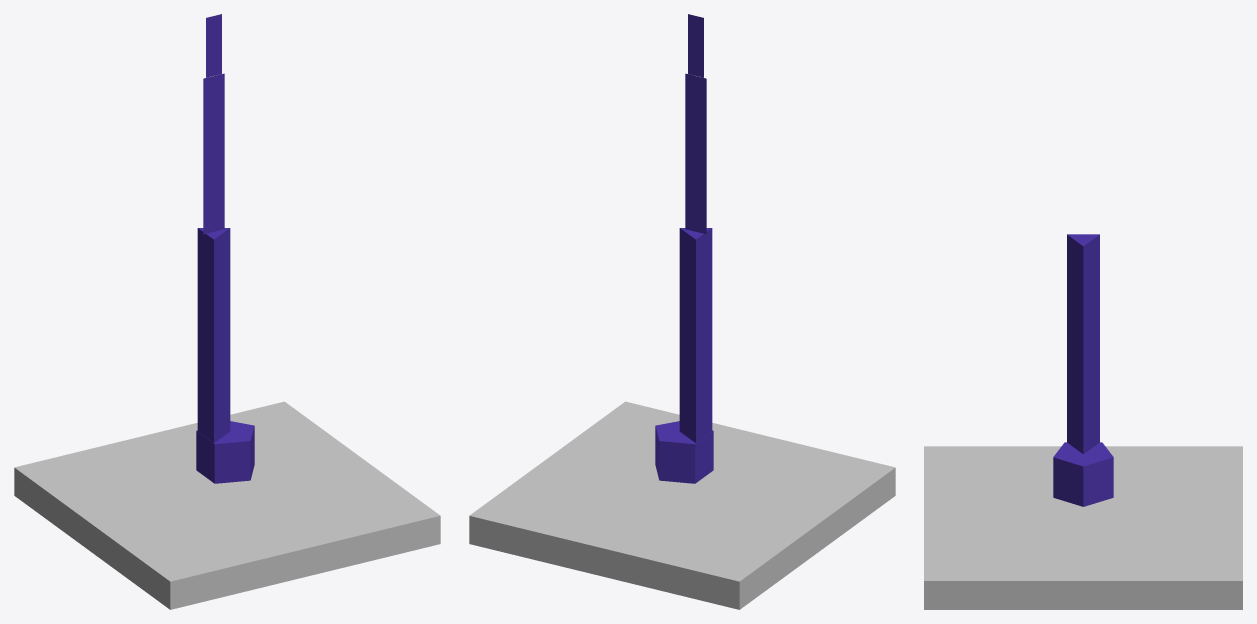
The model's file is krowka.dae.
The picture shows the model from 3 angles, left to right: view 1: azimuth 30°, elevation 25°; view 2: azimuth 150°, elevation 25°; view 3: azimuth 270°, elevation 25°; orthographic projection. The views are drawn at different scales.
Parts seen in each view (by area): view 1: base_link, link_1, link_2, link_0, link_3; view 2: base_link, link_1, link_2, link_0, link_3; view 3: base_link, link_1, link_0.
Boxes of the visible parts, x1,y1,x2,y2 form: base_link: (14,401,440,609); link_1: (197,228,230,442); link_2: (203,73,224,234); link_0: (196,421,254,483); link_3: (206,14,221,77); base_link: (469,401,895,609); link_1: (679,228,712,442); link_2: (685,73,706,234); link_0: (655,421,713,483); link_3: (688,14,703,77); base_link: (924,446,1242,609); link_1: (1067,234,1099,454); link_0: (1053,442,1113,506).
Bounding box in the file's own units: 0.5 × 0.5 × 0.8965.
